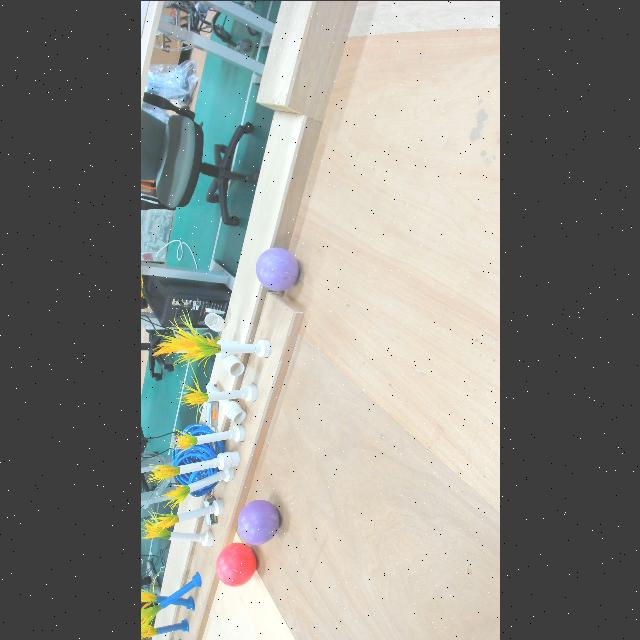P: (237, 499, 281, 545), (255, 246, 299, 290)
R: (214, 542, 256, 586)
